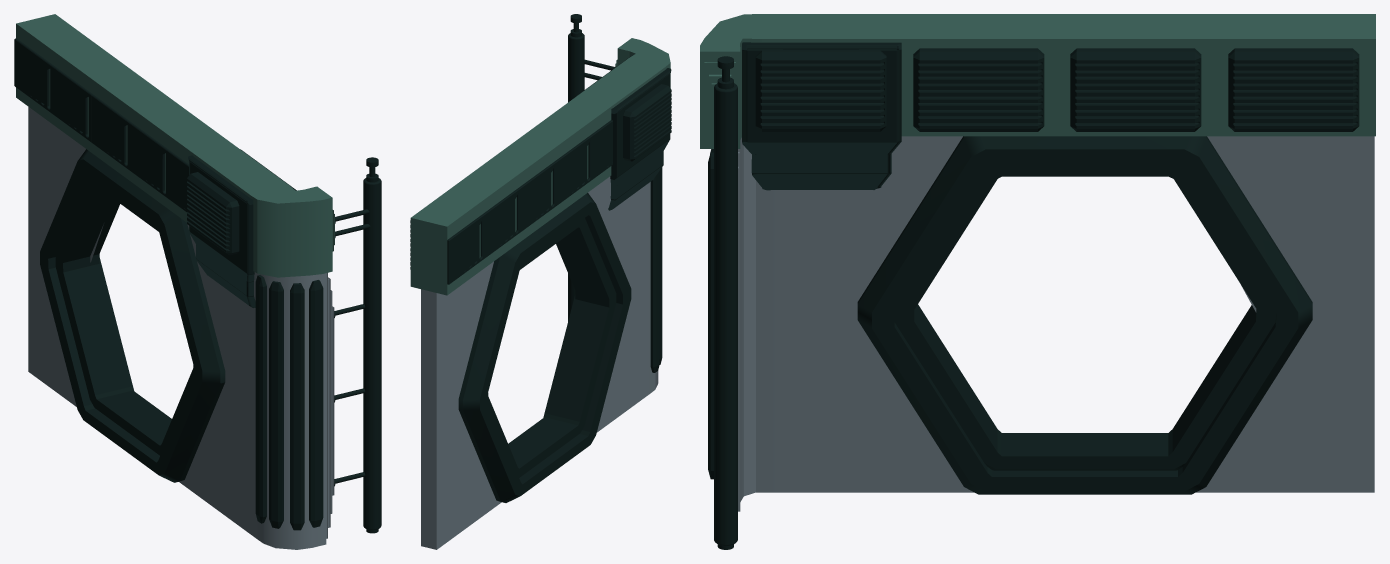
The model's file is hexagon gate wall.fbx.
3 renders of one model, left to right at view 1: azimuth 30°, elevation 25°; view 2: azimuth 150°, elevation 25°; view 3: azimuth 270°, elevation 25°, orthographic. The views are drawn at different scales.
Parts seen in each view (by area): view 1: polySurface2043; view 2: polySurface2043; view 3: polySurface2043.
Boxes of the visible parts, <box> form: polySurface2043: <box>14,14,381,549</box>; polySurface2043: <box>410,14,671,549</box>; polySurface2043: <box>700,14,1375,549</box>.
Size of the model in its own units: 68.9 by 185 by 232.
